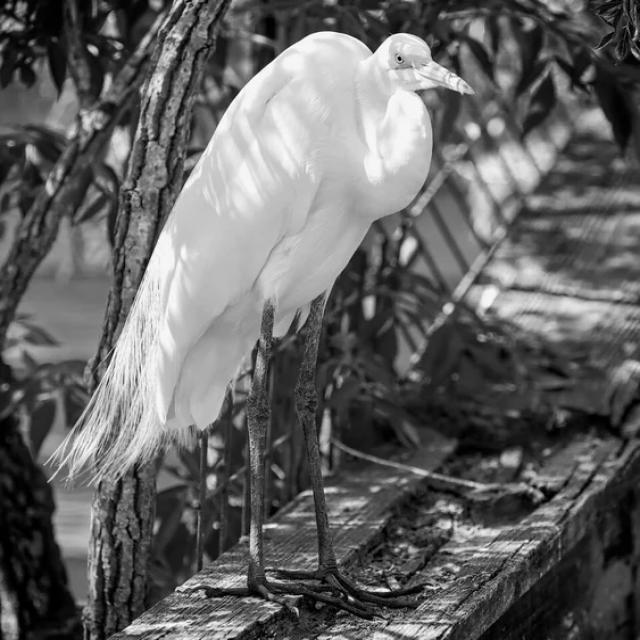Animal: (56, 31, 473, 619)
